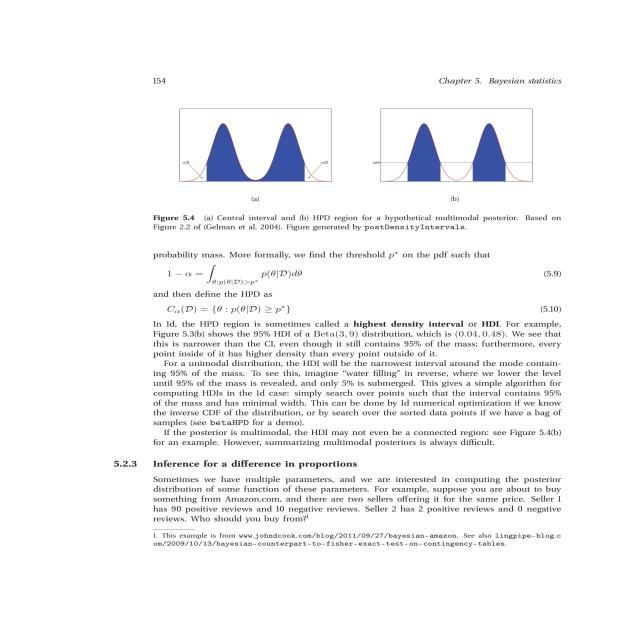diagram: (103, 96, 609, 238)
